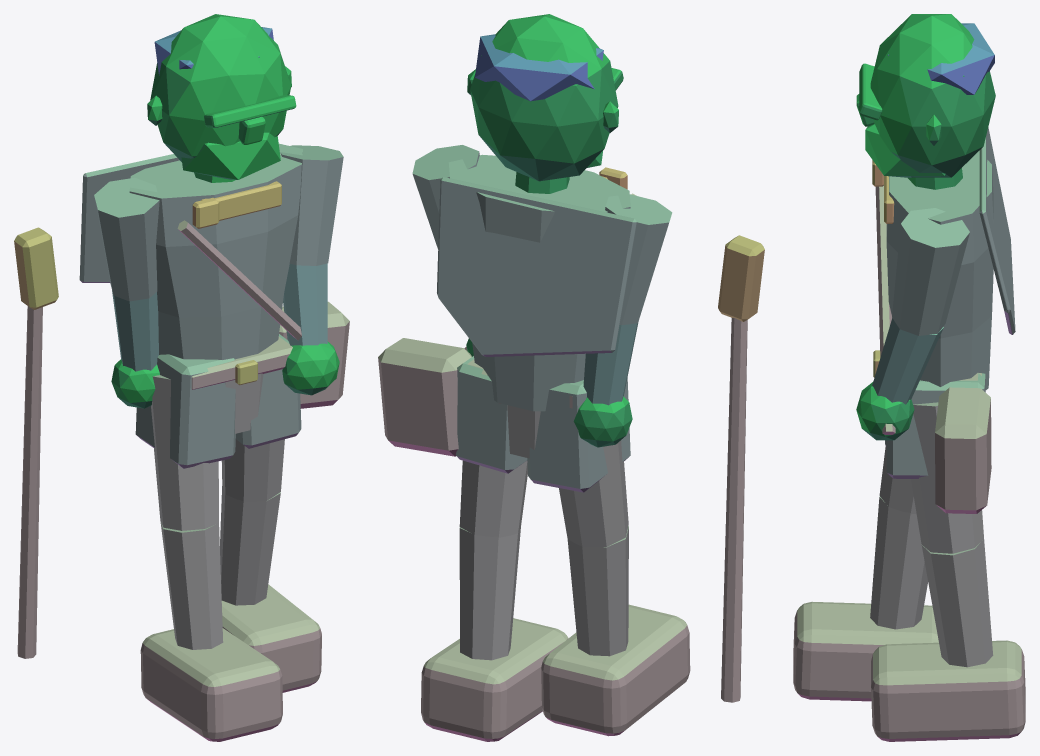
File: npc_scout_v01.glb
3 views of the same model, side by side, from view 1: azimuth 30°, elevation 25°; view 2: azimuth 150°, elevation 25°; view 3: azimuth 270°, elevation 25° (orthographic). The views are drawn at different scales.
Parts seen in each view (by area): view 1: GEO_npc_scout_v01; view 2: GEO_npc_scout_v01; view 3: GEO_npc_scout_v01.
Boxes of the visible parts, box(x1,y1,x2,y2) form: GEO_npc_scout_v01: box(14, 14, 349, 741); GEO_npc_scout_v01: box(378, 14, 764, 741); GEO_npc_scout_v01: box(793, 14, 1025, 741).
Bounding box in the file's own units: 1.1 × 2.06 × 0.6278.
